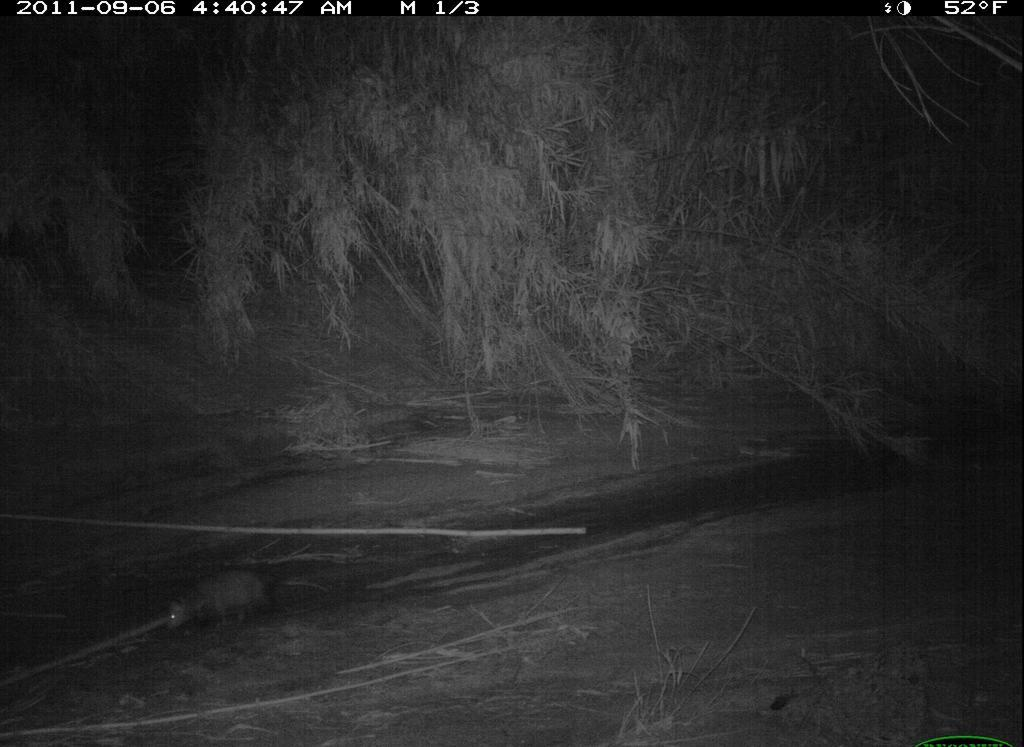opossum: (149, 556, 318, 647)
